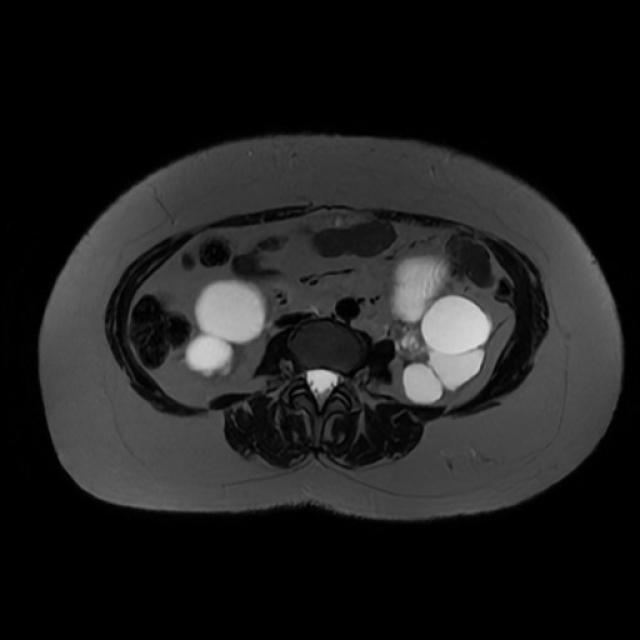sag: (189, 282, 267, 379)
sol: (393, 257, 493, 401)
